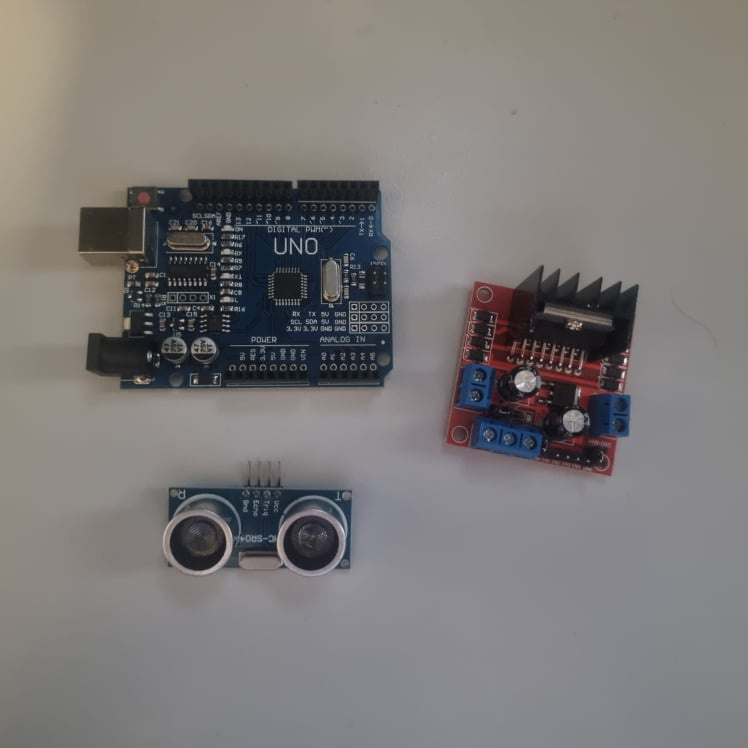MOTOR: (443, 268, 647, 478)
SENSOR: (165, 457, 356, 584)
UNO R3: (79, 176, 396, 393)
